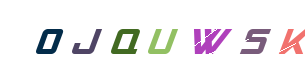0: (9, 0, 89, 80)
J: (85, 0, 165, 80)
K: (224, 0, 304, 80)
Q: (110, 0, 190, 80)
S: (168, 0, 248, 80)
U: (117, 0, 197, 80)
W: (139, 0, 219, 80)
